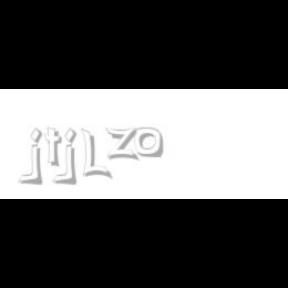L: (81, 128, 109, 180)
j: (28, 128, 57, 186), (62, 128, 90, 186)
o: (134, 128, 162, 158)
t: (44, 128, 66, 168)
z: (105, 128, 141, 160)
